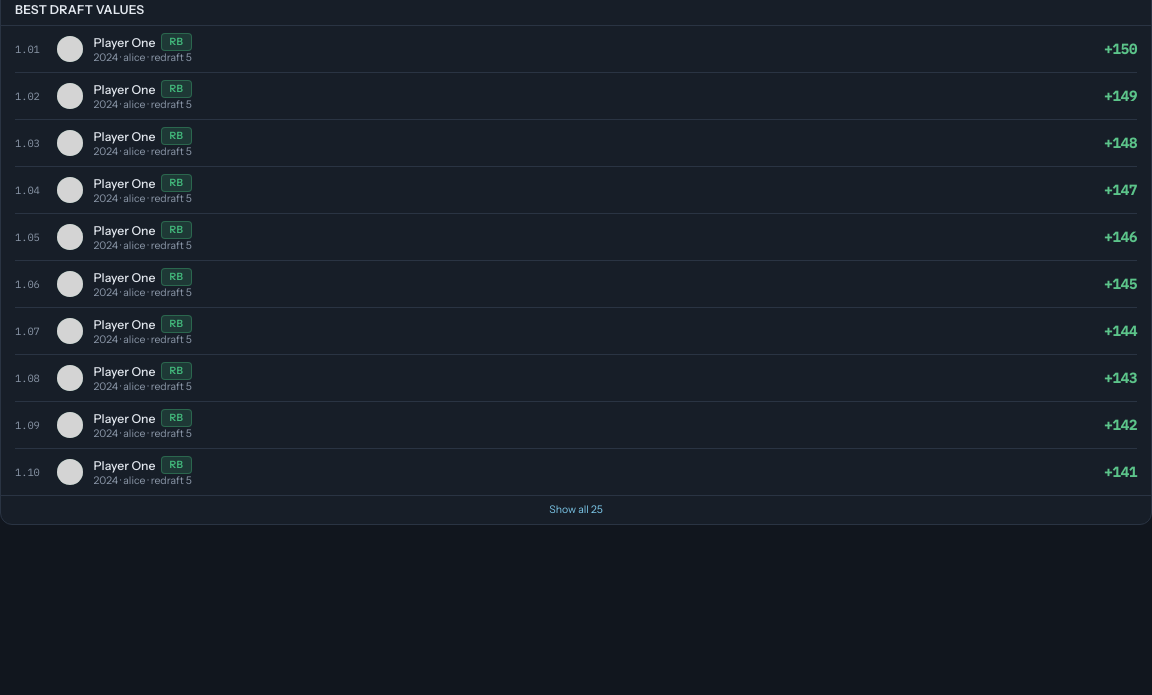
Test: PickList › shows the first 10 rows with year, manager and value, then expands to 25
This screenshot has width=1152, height=695.
Check: the list item "1.01 Player One RB 2024 · alice · redraft 5 +150" is shown, box 15,26 -> 1137,73
Click the button "Show all 25" at [576, 510], box 1,495 -> 1151,524
(page scrolled)
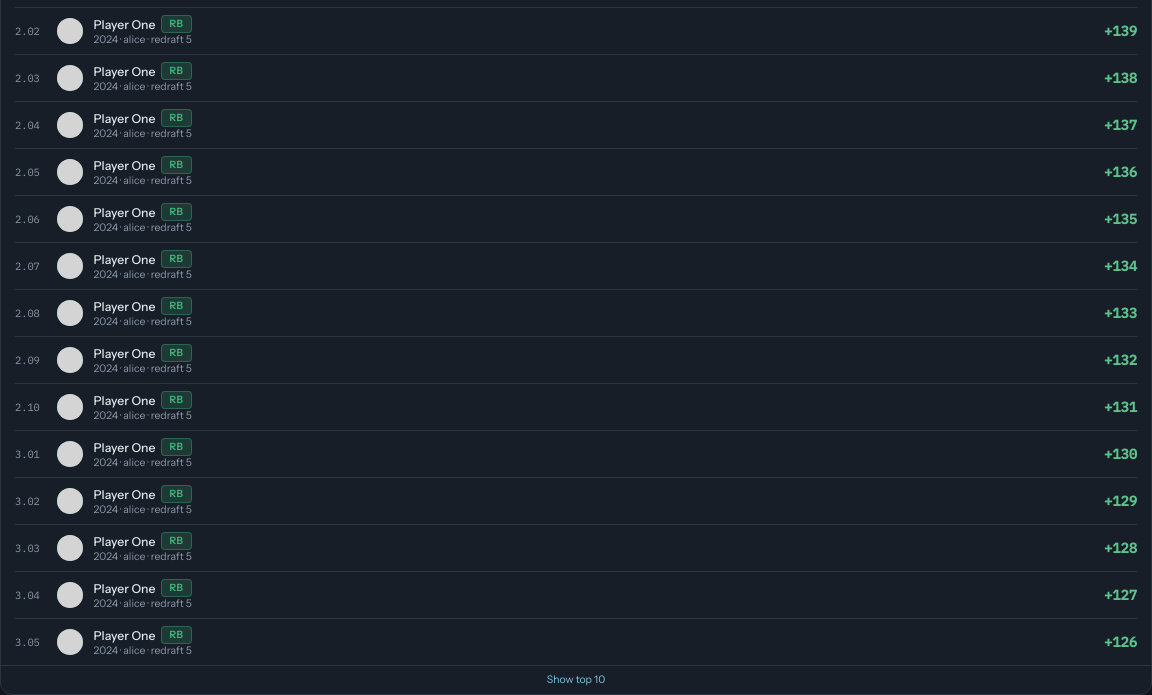
Click the button "Show top 10" at [576, 680], box 1,665 -> 1151,694
(page scrolled)
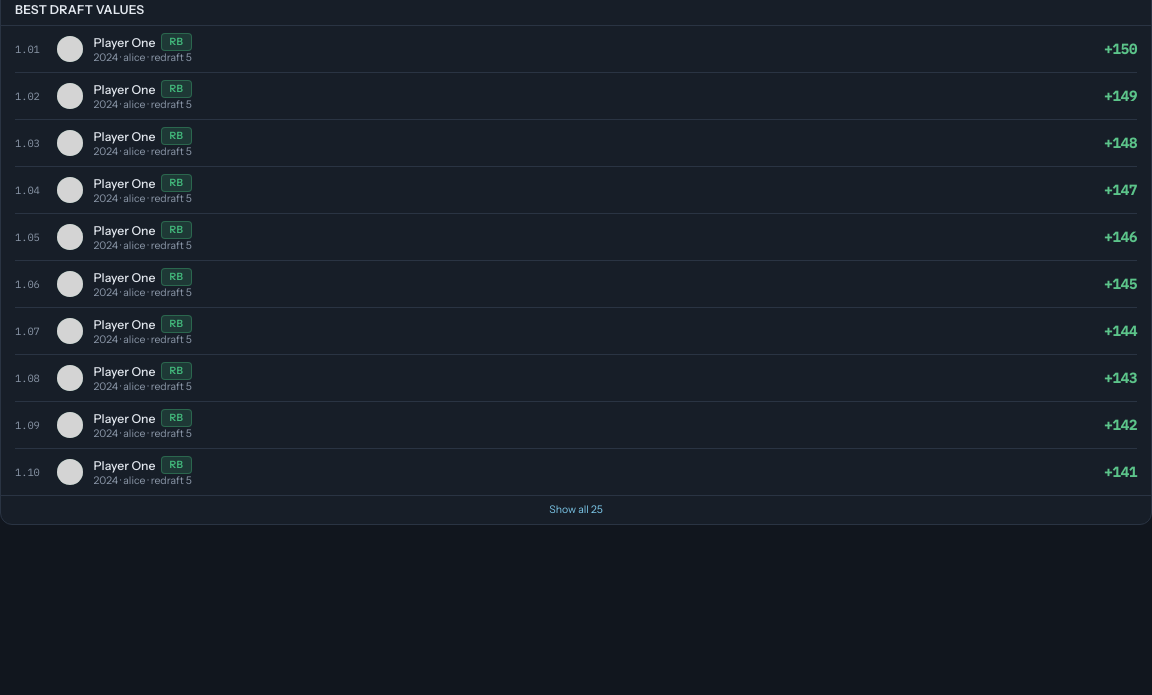
Check: the number of list items is 10
